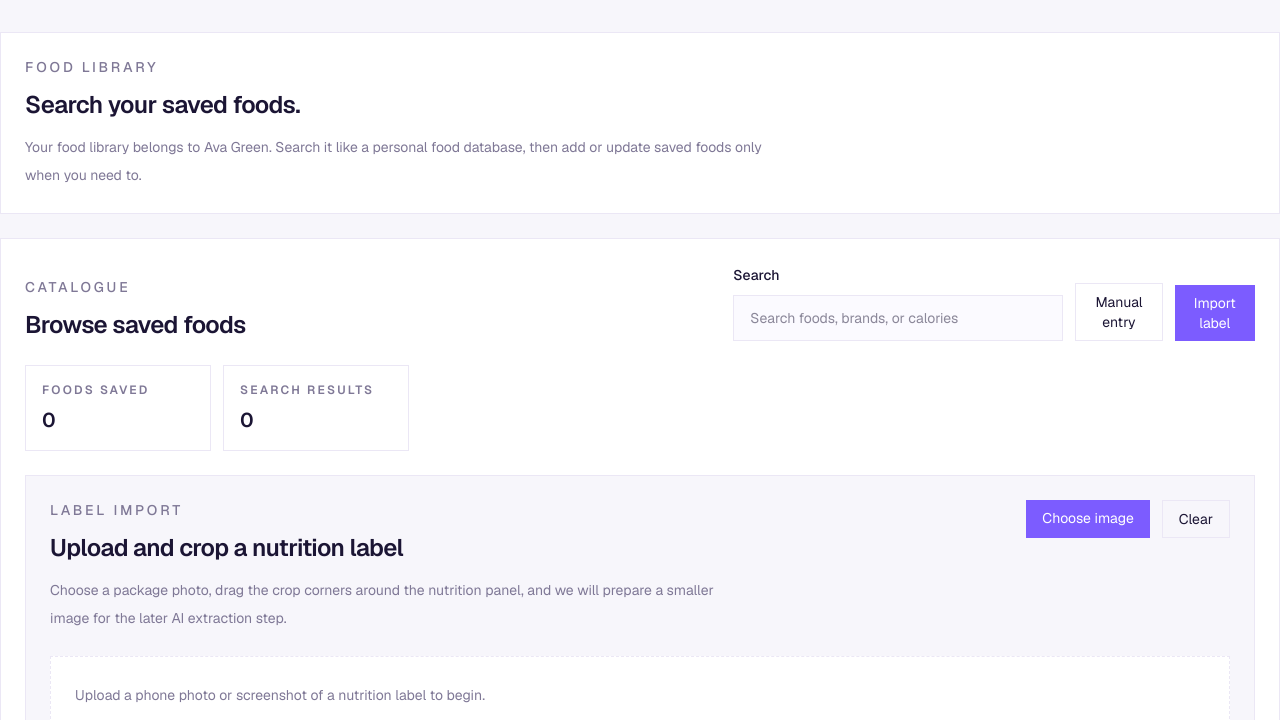
Test case: FoodLibraryPage › opens the form when adding a new food
Click the button "Manual entry" at [1119, 312], box x1=1075 y1=283 x2=1162 y2=341
(page scrolled)
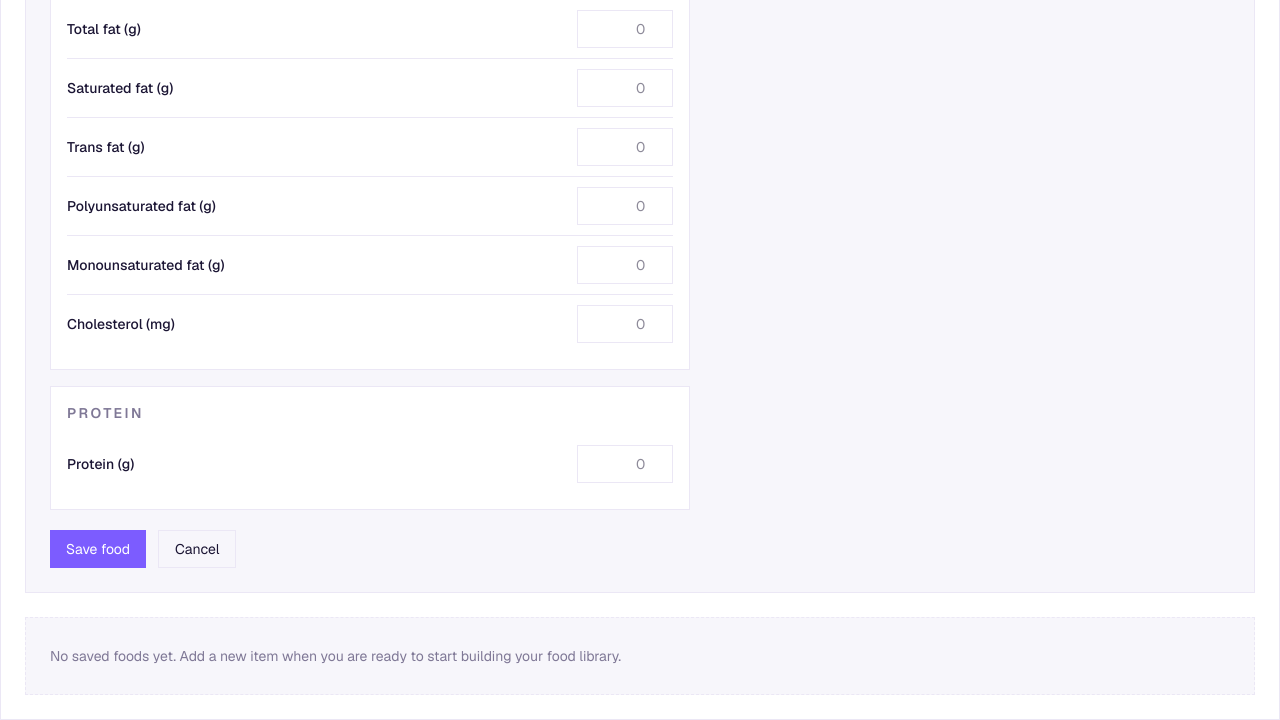
Result: the button "Save food" is shown at x1=50 y1=530 x2=146 y2=568
